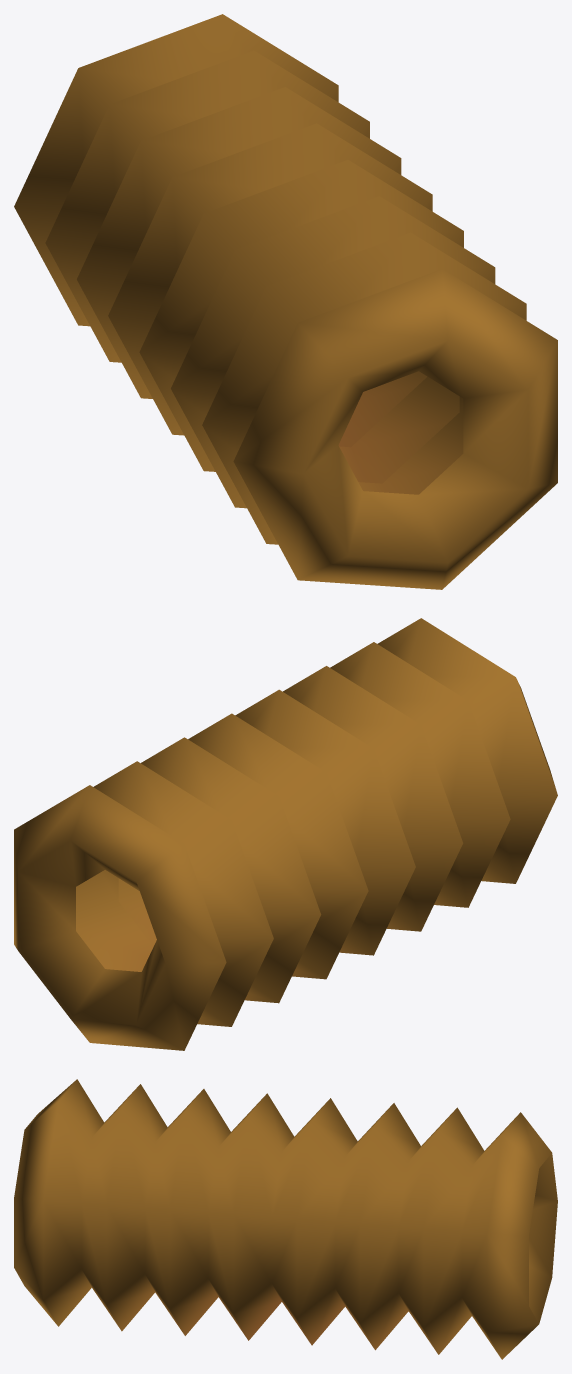
The model's file is stack-copper-wire.glb.
The picture shows the model from 3 angles, top to bottom: view 1: azimuth 30°, elevation 25°; view 2: azimuth 150°, elevation 25°; view 3: azimuth 270°, elevation 25°; orthographic projection. The views are drawn at different scales.
Parts seen in each view (by area): view 1: Cylinder.011; view 2: Cylinder.011; view 3: Cylinder.011.
Part boxes in pixels (x1,y1,x2,y2): Cylinder.011: (14,14,557,589); Cylinder.011: (14,618,557,1050); Cylinder.011: (14,1079,557,1359).
Bounding box in the file's own units: 2.55 × 2 × 4.37.
